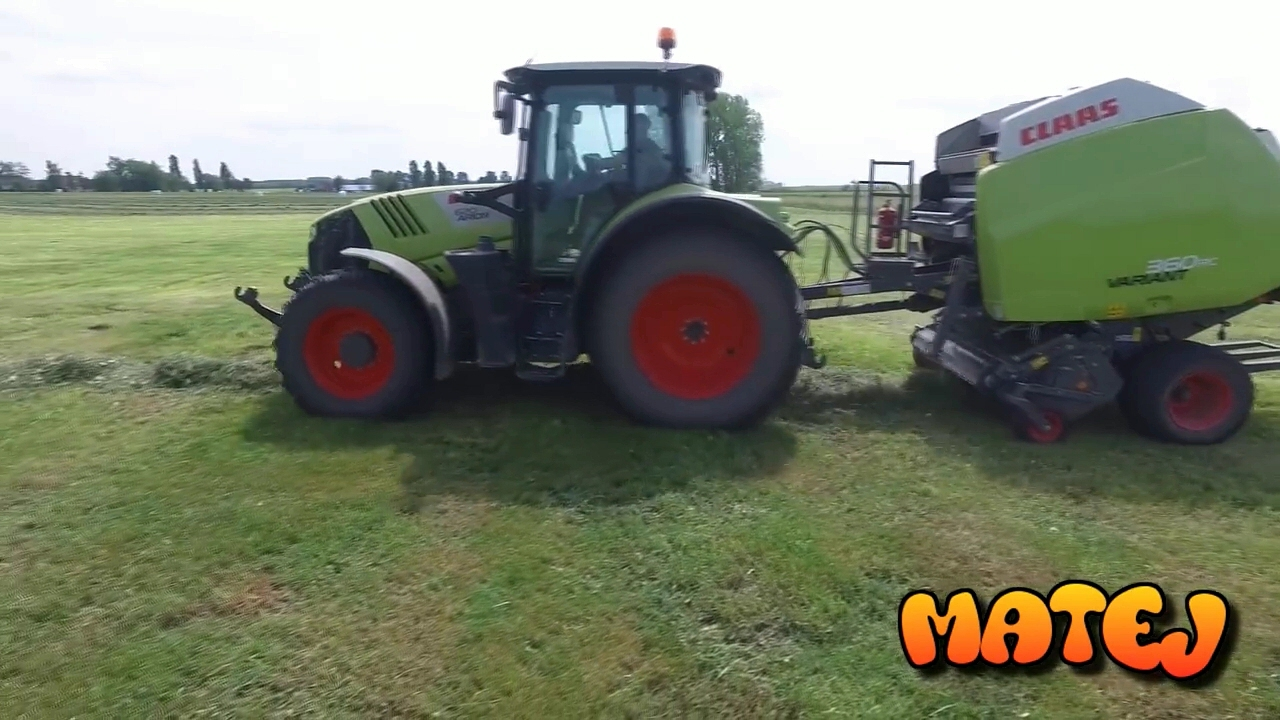traktor: (228, 19, 842, 427)
